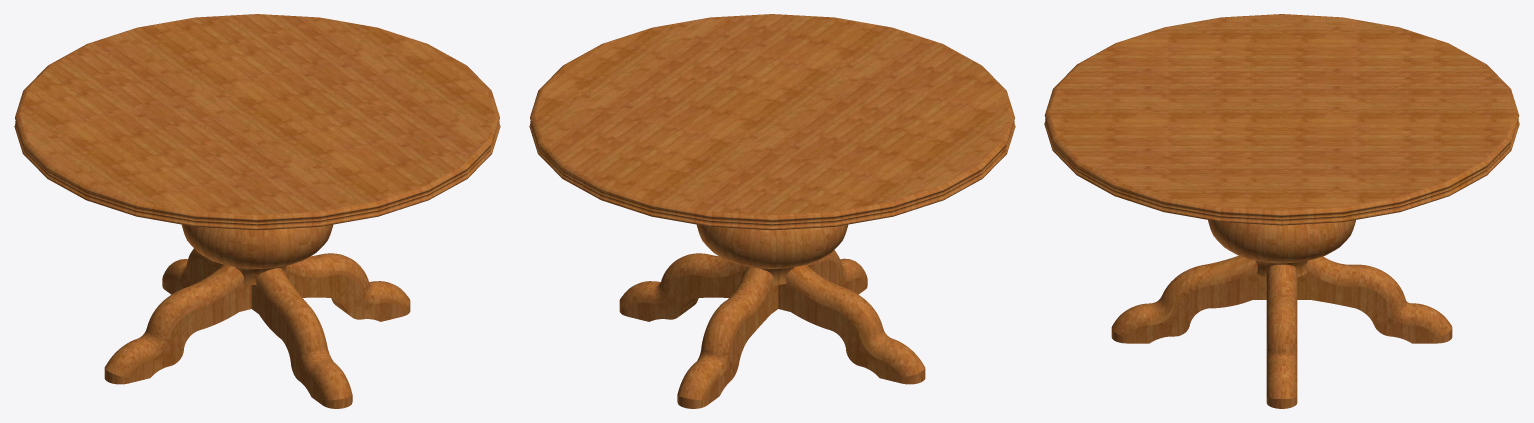
The picture shows the model from 3 angles, left to right: view 1: azimuth 30°, elevation 25°; view 2: azimuth 150°, elevation 25°; view 3: azimuth 270°, elevation 25°; orthographic projection. The views are drawn at different scales.
Parts seen in each view (by area): view 1: mesh1_mesh1-geometry; view 2: mesh1_mesh1-geometry; view 3: mesh1_mesh1-geometry.
Part boxes in pixels (x1,y1,x2,y2): mesh1_mesh1-geometry: (14, 14, 500, 408); mesh1_mesh1-geometry: (529, 14, 1015, 408); mesh1_mesh1-geometry: (1044, 14, 1519, 408).
Bounding box in the file's own units: 0.6635 × 0.3459 × 0.6635.
3 materials, 1 textured.
